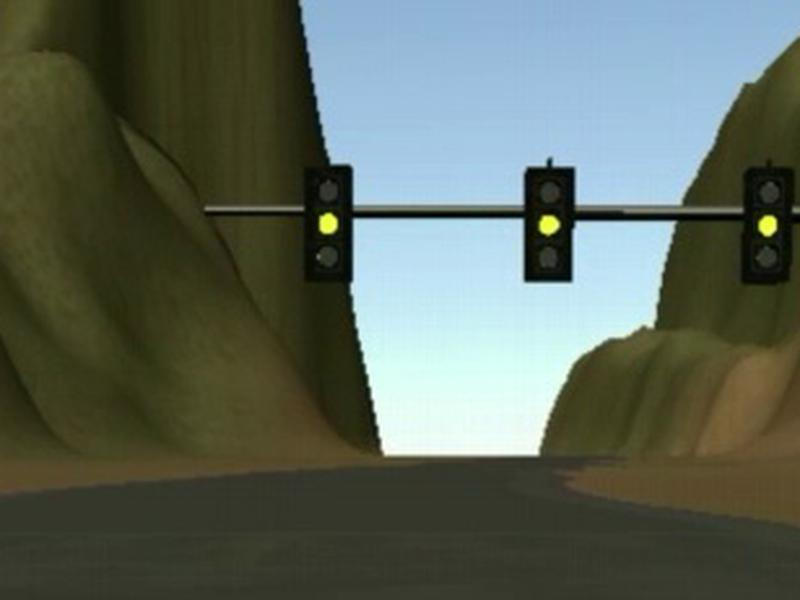Yellow: (741, 164, 795, 284), (524, 166, 576, 283), (303, 163, 352, 283)
